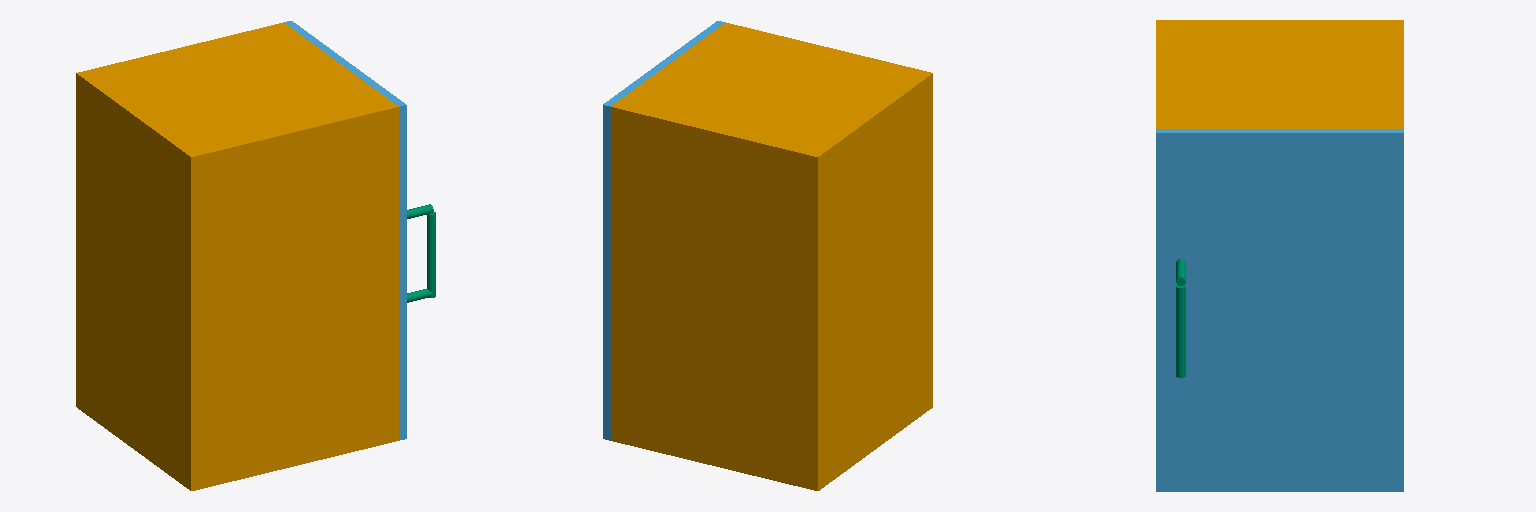
URDF robot description (cabinet):
<?xml version="1.0"?>
<robot name="cabinet" xmlns:xacro="http://ros.org/wiki/xacro">
    <link name="base_link">
        <visual>
            <origin xyz="0.000000 0.000000 -0.390000" rpy="-0.000000 0.000000 -0.000000"/>
            <geometry>
                <box size="0.500000 0.500000 0.020000"/>
            </geometry>
        </visual>
        <visual>
            <origin xyz="0.000000 0.000000 0.390000" rpy="-0.000000 0.000000 -0.000000"/>
            <geometry>
                <box size="0.500000 0.500000 0.020000"/>
            </geometry>
        </visual>
        <visual>
            <origin xyz="0.000000 -0.240000 0.000000" rpy="-0.000000 0.000000 -0.000000"/>
            <geometry>
                <box size="0.500000 0.020000 0.760000"/>
            </geometry>
        </visual>
        <visual>
            <origin xyz="0.000000 0.240000 0.000000" rpy="-0.000000 0.000000 -0.000000"/>
            <geometry>
                <box size="0.500000 0.020000 0.760000"/>
            </geometry>
        </visual>
        <visual>
            <origin xyz="-0.260000 0.000000 0.000000" rpy="-0.000000 0.000000 -0.000000"/>
            <geometry>
                <box size="0.020000 0.500000 0.800000"/>
            </geometry>
        </visual>
        <collision>
            <origin xyz="0.000000 0.000000 -0.390000" rpy="-0.000000 0.000000 -0.000000"/>
            <geometry>
                <box size="0.500000 0.500000 0.020000"/>
            </geometry>
        </collision>
        <collision>
            <origin xyz="0.000000 0.000000 0.390000" rpy="-0.000000 0.000000 -0.000000"/>
            <geometry>
                <box size="0.500000 0.500000 0.020000"/>
            </geometry>
        </collision>
        <collision>
            <origin xyz="0.000000 -0.240000 0.000000" rpy="-0.000000 0.000000 -0.000000"/>
            <geometry>
                <box size="0.500000 0.020000 0.760000"/>
            </geometry>
        </collision>
        <collision>
            <origin xyz="0.000000 0.240000 0.000000" rpy="-0.000000 0.000000 -0.000000"/>
            <geometry>
                <box size="0.500000 0.020000 0.760000"/>
            </geometry>
        </collision>
        <collision>
            <origin xyz="-0.260000 0.000000 0.000000" rpy="-0.000000 0.000000 -0.000000"/>
            <geometry>
                <box size="0.020000 0.500000 0.800000"/>
            </geometry>
        </collision>
    </link>
    <joint name="door_joint" type="revolute">
        <parent link="base_link"/>
        <child link="door"/>
        <origin xyz="0.260000 0.240000 0.000000" rpy="-0.000000 0.000000 -0.000000"/>
        <axis xyz="0.000000 0.000000 1.000000"/>
        <limit lower="0.000000" upper="2.356194" velocity="0" effort="0"/>
    </joint>
    <link name="door">
        <visual>
            <origin xyz="0.000000 -0.240000 0.000000" rpy="-0.000000 0.000000 -0.000000"/>
            <geometry>
                <box size="0.020000 0.500000 0.800000"/>
            </geometry>
        </visual>
        <collision>
            <origin xyz="0.000000 -0.240000 0.000000" rpy="-0.000000 0.000000 -0.000000"/>
            <geometry>
                <box size="0.020000 0.500000 0.800000"/>
            </geometry>
        </collision>
    </link>
    <joint name="handle_joint" type="fixed">
        <parent link="door"/>
        <child link="handle"/>
        <origin xyz="0.100000 -0.440000 0.000000" rpy="-0.000000 0.000000 -0.000000"/>
    </joint>
    <link name="handle">
        <visual>
            <origin xyz="0.000000 0.000000 0.000000" rpy="-0.000000 0.000000 -0.000000"/>
            <geometry>
                <cylinder radius="0.010000" length="0.200000"/>
            </geometry>
        </visual>
        <visual>
            <origin xyz="-0.050000 0.000000 -0.090000" rpy="-0.000000 1.570796 0.000000"/>
            <geometry>
                <cylinder radius="0.010000" length="0.100000"/>
            </geometry>
        </visual>
        <visual>
            <origin xyz="-0.050000 0.000000 0.110000" rpy="-0.000000 1.570796 0.000000"/>
            <geometry>
                <cylinder radius="0.010000" length="0.100000"/>
            </geometry>
        </visual>
        <collision>
            <origin xyz="0.000000 0.000000 0.000000" rpy="-0.000000 0.000000 -0.000000"/>
            <geometry>
                <cylinder radius="0.010000" length="0.200000"/>
            </geometry>
        </collision>
        <collision>
            <origin xyz="-0.050000 0.000000 -0.090000" rpy="-0.000000 1.570796 0.000000"/>
            <geometry>
                <cylinder radius="0.010000" length="0.100000"/>
            </geometry>
        </collision>
        <collision>
            <origin xyz="-0.050000 0.000000 0.110000" rpy="-0.000000 1.570796 0.000000"/>
            <geometry>
                <cylinder radius="0.010000" length="0.100000"/>
            </geometry>
        </collision>
    </link>
</robot>

--- What the picture shows (computed from the rendered views, not written in the file) ---
3 views of the same robot in one strip: view 1: azimuth 30°, elevation 25°; view 2: azimuth 150°, elevation 25°; view 3: azimuth 270°, elevation 25° (orthographic).
Model cabinet with 3 links and 2 joints (1 revolute, 1 fixed), rooted at base_link, posed every joint at zero.
Links seen in each view (by area): view 1: base_link, door, handle; view 2: base_link, door; view 3: door, base_link, handle.
Link boxes in pixels (left/top/right/bottom): base_link: left=76, top=22, right=398, bottom=490; door: left=284, top=21, right=406, bottom=440; handle: left=407, top=204, right=435, bottom=302; base_link: left=611, top=23, right=932, bottom=490; door: left=603, top=21, right=725, bottom=440; door: left=1156, top=129, right=1403, bottom=491; base_link: left=1156, top=20, right=1403, bottom=128; handle: left=1176, top=259, right=1185, bottom=377.
Bounding box of the posed robot: 0.64 × 0.5 × 0.8 m (x, y, z).
Geometry: primitives only (box / cylinder / sphere), no mesh files.